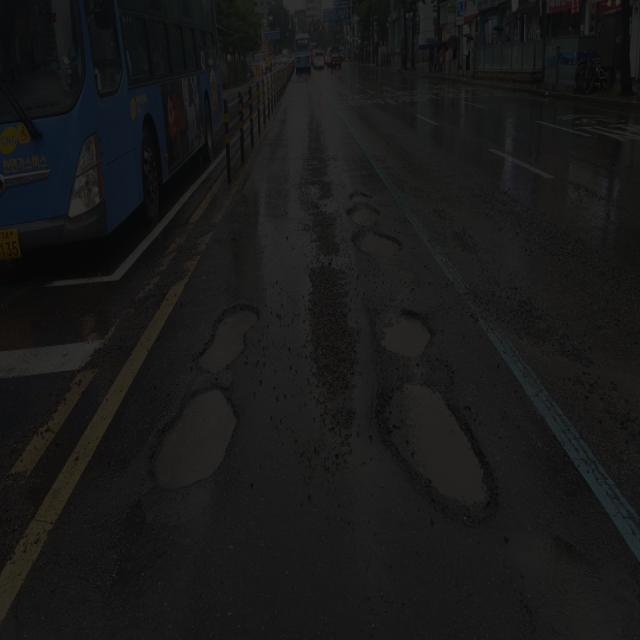pothole: (366, 372, 516, 548), (124, 376, 266, 510), (185, 282, 272, 378), (338, 174, 411, 269), (368, 300, 449, 373)
